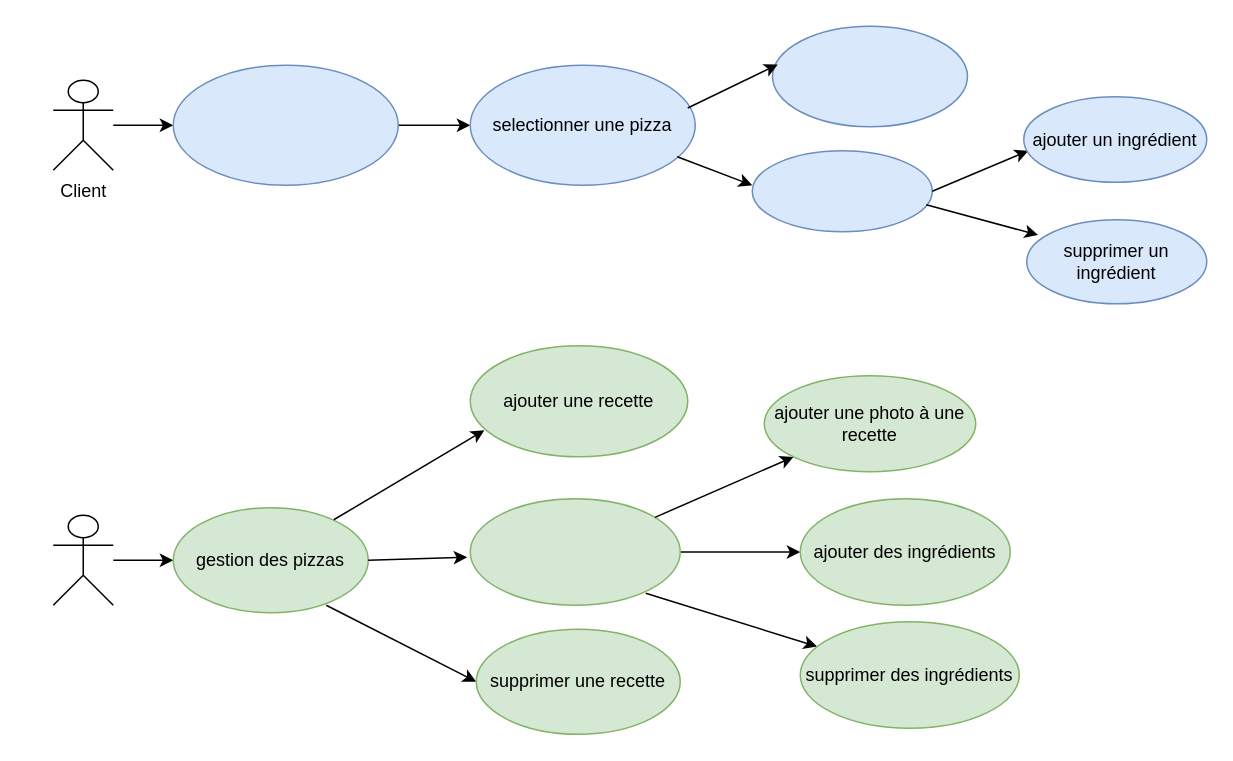
This 1233x761 diagram has some shape labels left out. The centre of each missing label's shape, as x and y in pixels:
"Administrateur" goes at pixel 82 559.
"modifier la recette" goes at pixel 841 190.
"modifier une recette" goes at pixel 574 551.
"passer une commande" goes at pixel 869 76.
"voir la liste des pizzas" goes at pixel 285 124.
